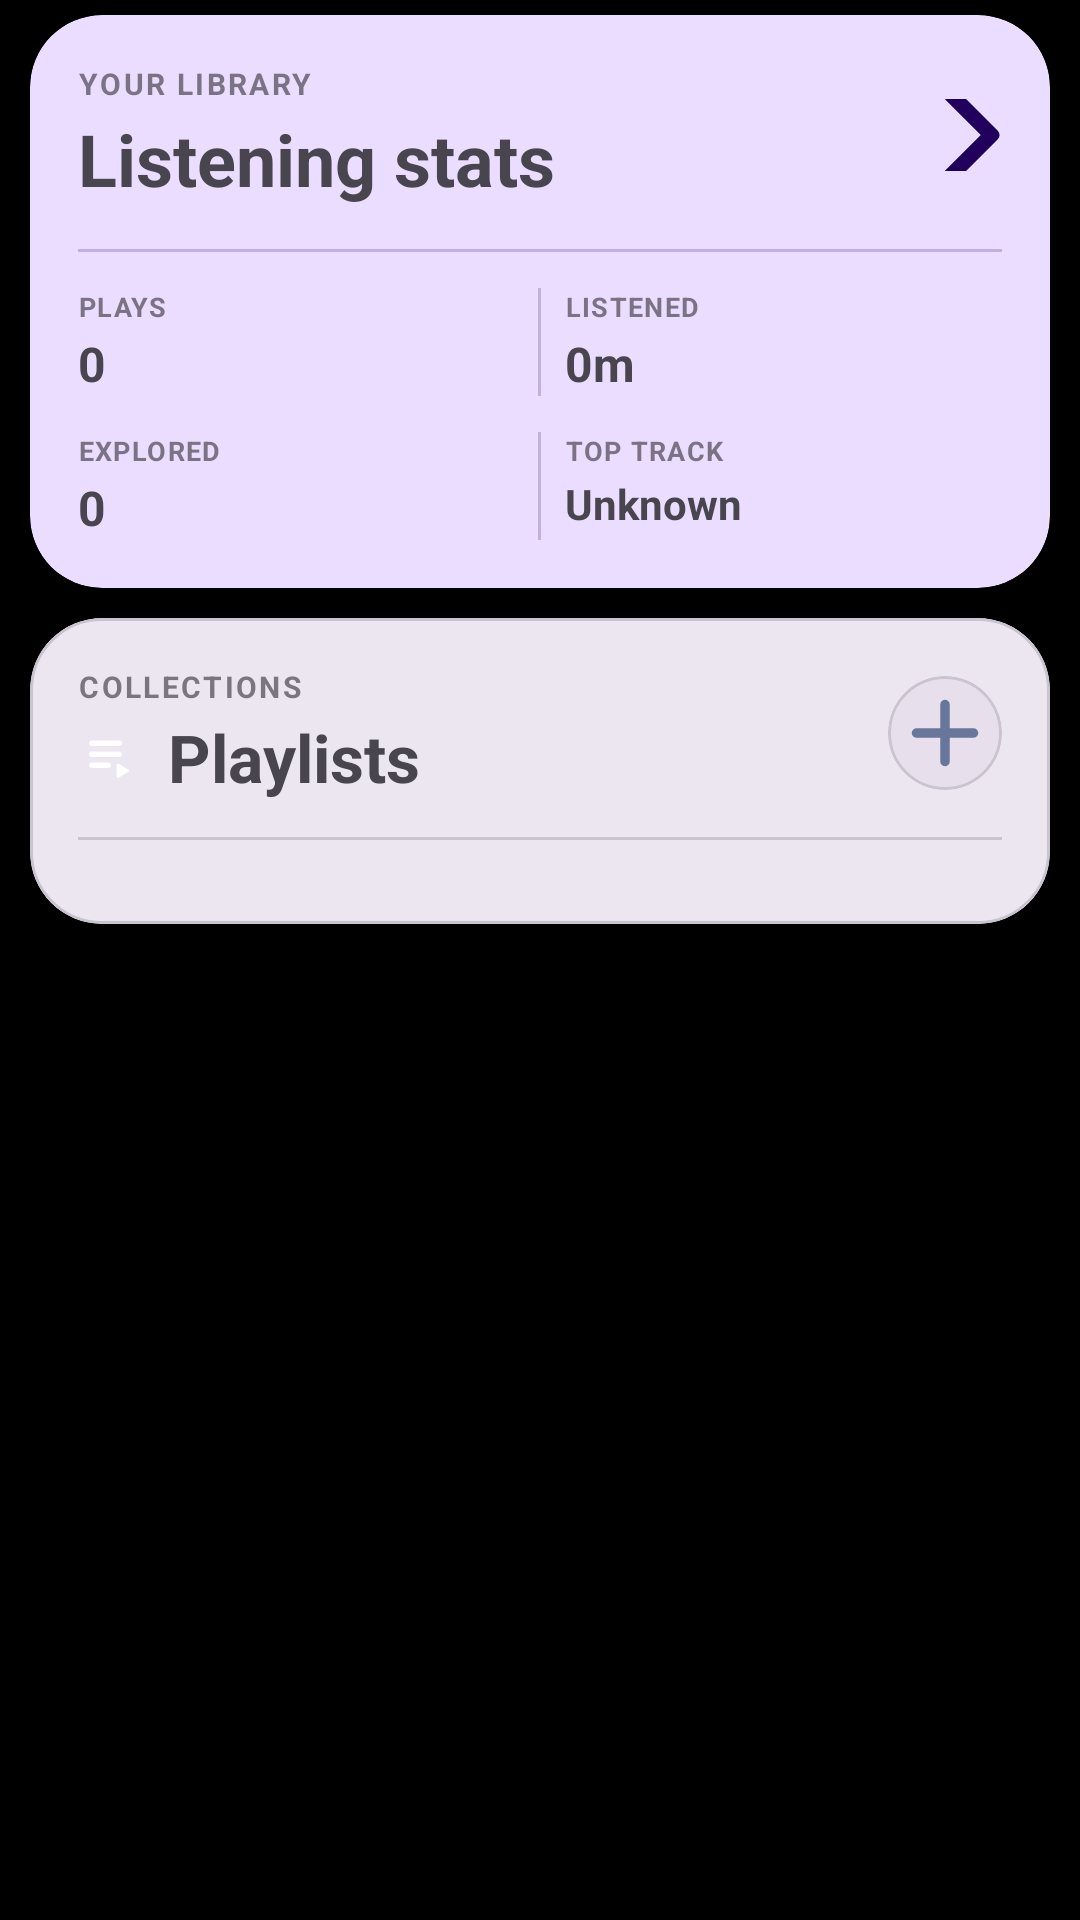

Icon bounding boxes for this 1080*1920 phone screenshot, format (x1, y1, x2, y2):
add: (888, 676, 1002, 790)
